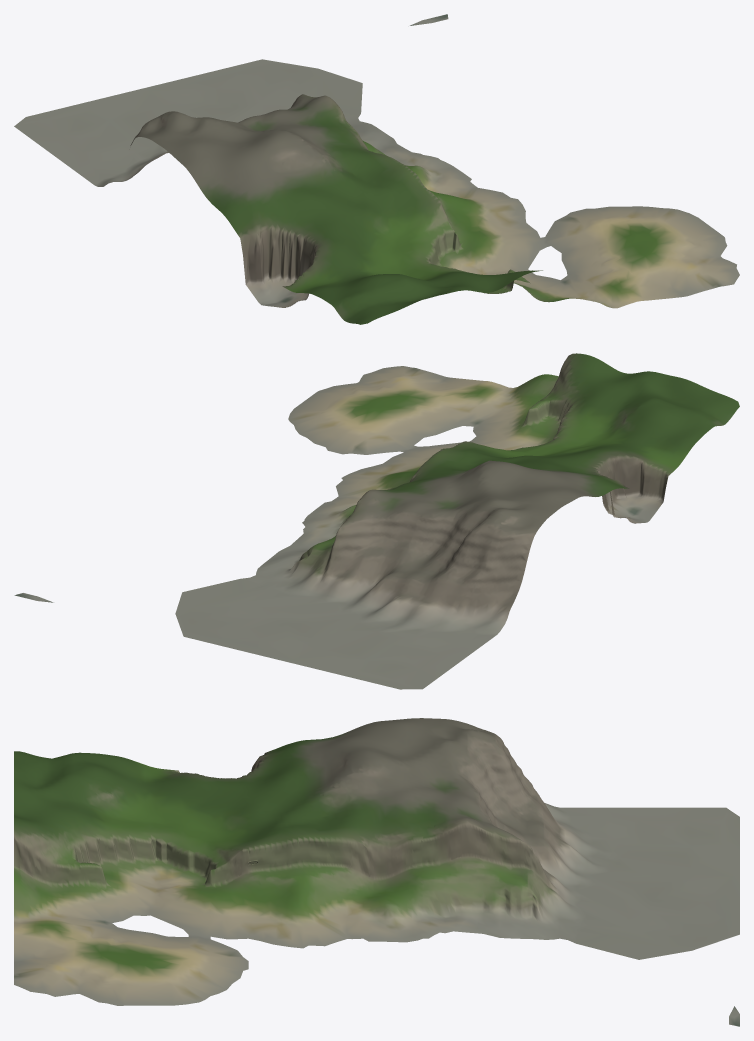
Rendered from coast_tile_x1z0_lod1.glb.
3 views of the same model, one above another, from view 1: azimuth 30°, elevation 25°; view 2: azimuth 150°, elevation 25°; view 3: azimuth 270°, elevation 25° (orthographic). The views are drawn at different scales.
Parts seen in each view (by area): view 1: coast_tile_x1z0_lod1; view 2: coast_tile_x1z0_lod1; view 3: coast_tile_x1z0_lod1.
Boxes of the visible parts, x1,y1,x2,y2 form: coast_tile_x1z0_lod1: (14, 14, 739, 324); coast_tile_x1z0_lod1: (14, 353, 739, 689); coast_tile_x1z0_lod1: (14, 718, 739, 1026).
Size of the model in its own units: 570 by 119 by 798.
